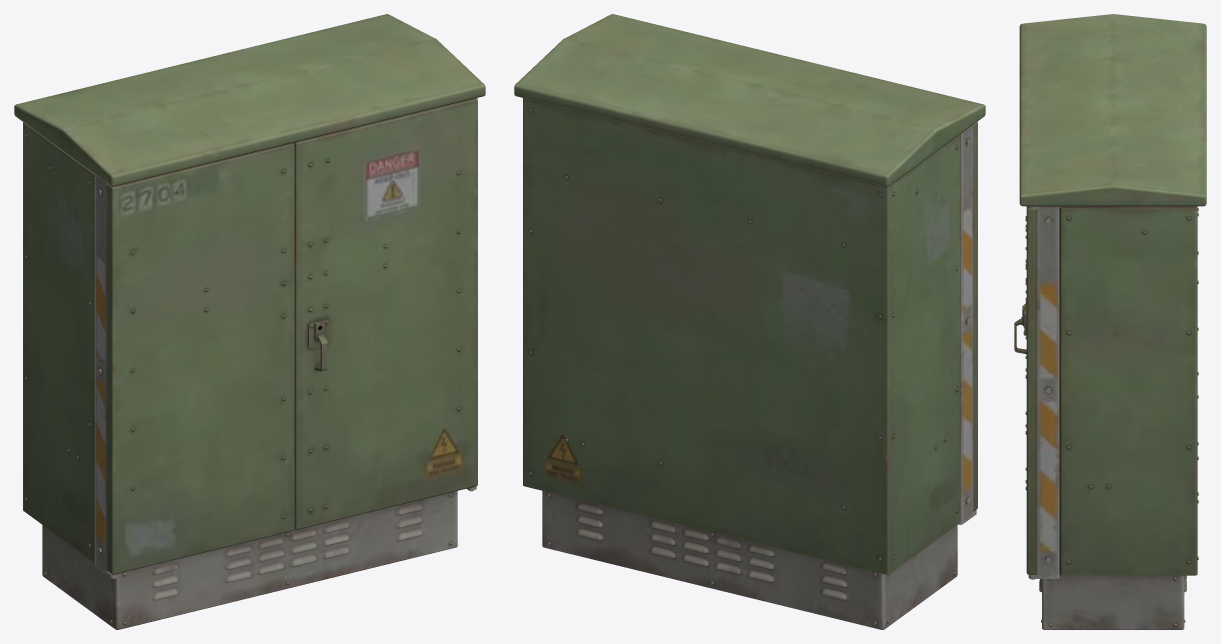
Rendered from utility-box-tall.glb.
The picture shows the model from 3 angles, left to right: view 1: azimuth 30°, elevation 25°; view 2: azimuth 150°, elevation 25°; view 3: azimuth 270°, elevation 25°; orthographic projection. The views are drawn at different scales.
Visible parts, largest first — view 1: utility_box_02; view 2: utility_box_02; view 3: utility_box_02.
Boxes of the visible parts, left/top/right/bottom form: utility_box_02: left=14, top=14, right=485, bottom=629; utility_box_02: left=514, top=14, right=985, bottom=629; utility_box_02: left=1014, top=14, right=1206, bottom=629.
Bounding box in the file's own units: 0.92 × 1.12 × 0.432.
Materials: 1 (1 with a texture image).
